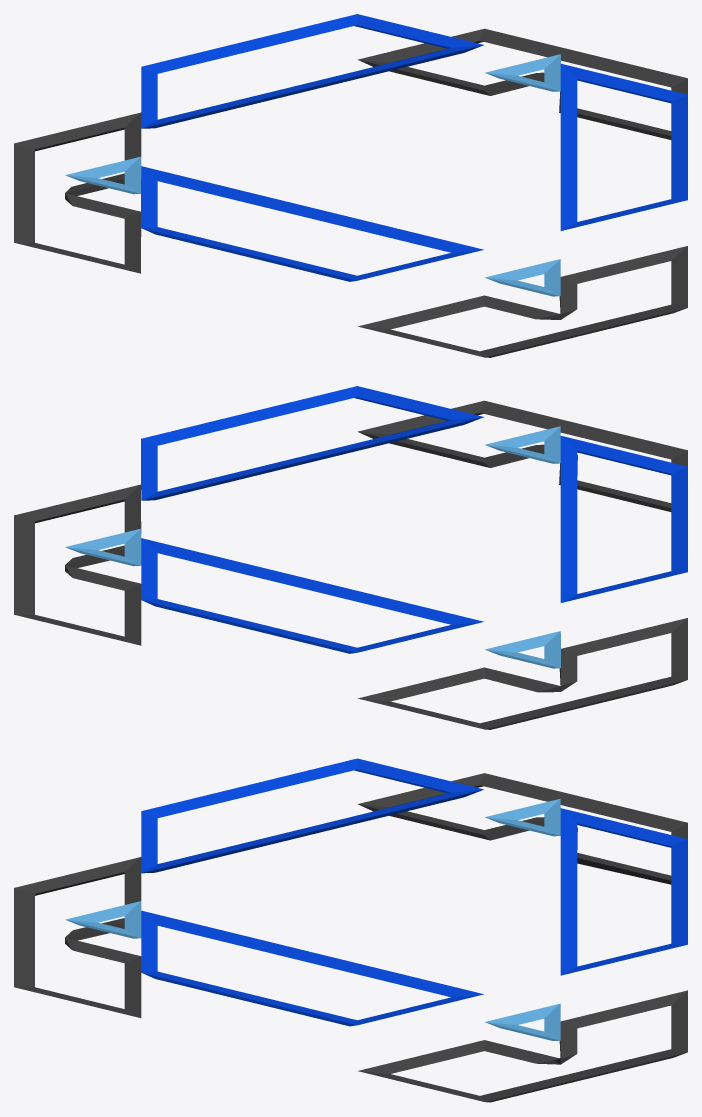
The model's file is Triangle.glb.
3 renders of one model, top to bottom at view 1: azimuth 30°, elevation 25°; view 2: azimuth 150°, elevation 25°; view 3: azimuth 270°, elevation 25°, orthographic.
Visible parts, largest first — view 1: TriangleC3; view 2: TriangleC3; view 3: TriangleC3.
Part boxes in pixels (box(x1,y1,x2,y2)): TriangleC3: box(14, 14, 687, 357); TriangleC3: box(14, 386, 687, 729); TriangleC3: box(14, 758, 687, 1102).
Size of the model in its own units: 2.34 by 0.1716 by 2.03.
